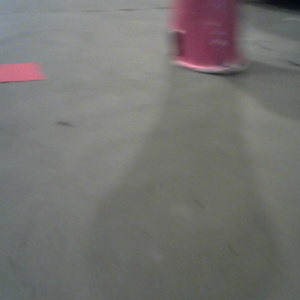right: (166, 1, 250, 77)
